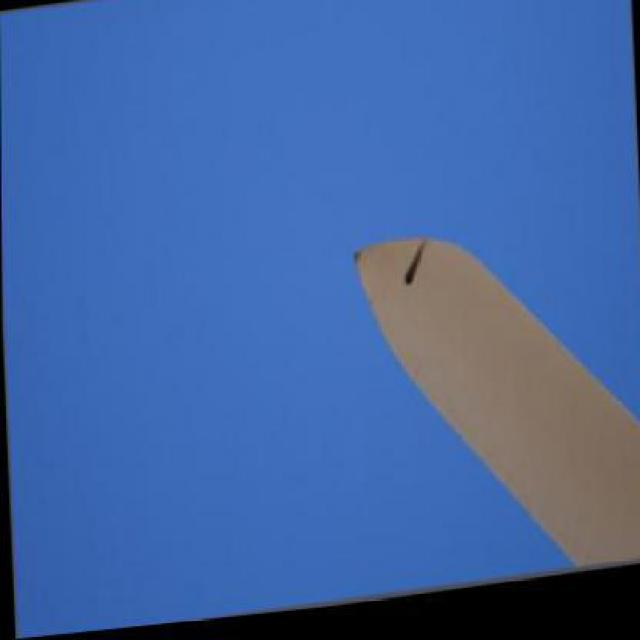Burn Mark: (399, 235, 436, 294)
